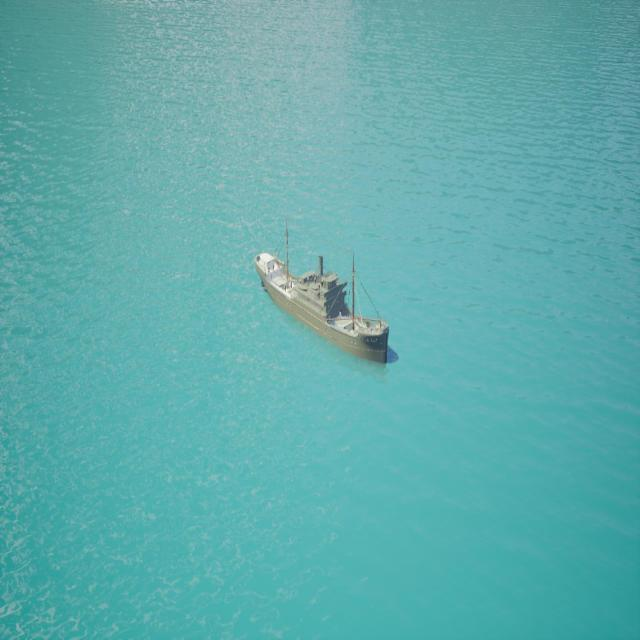fishing ship: (253, 251, 396, 367)
